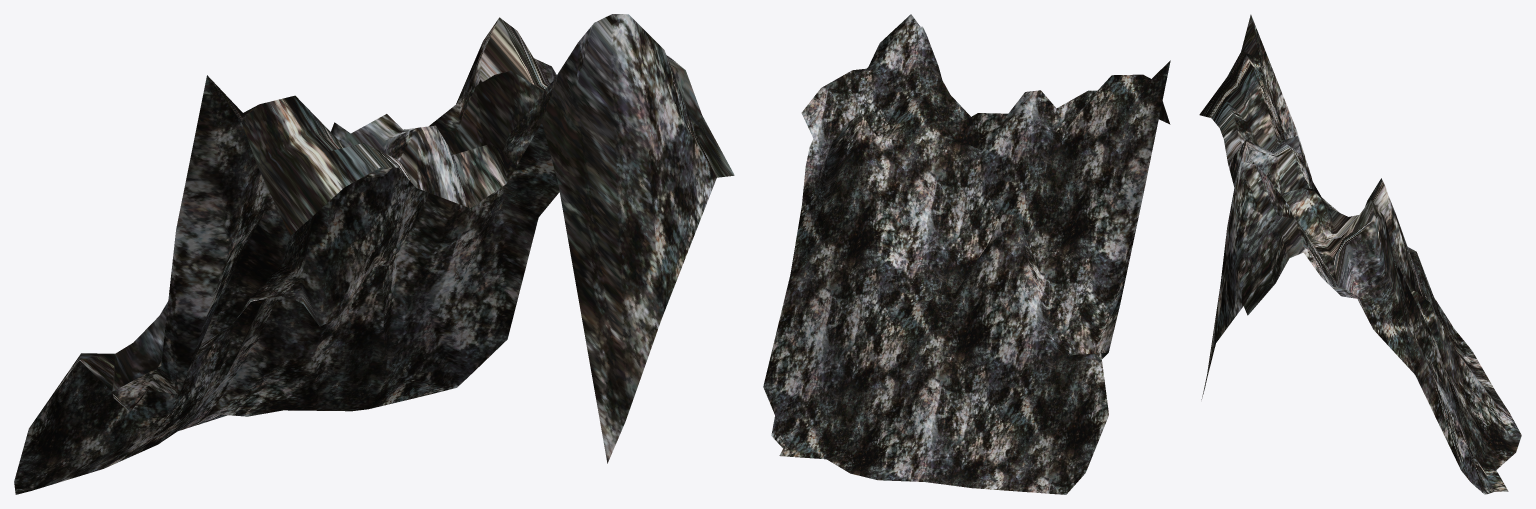
Rendered from OVERHILL_A_01_MOUN1_OBJECT158.fbx.
3 renders of one model, left to right at view 1: azimuth 30°, elevation 25°; view 2: azimuth 150°, elevation 25°; view 3: azimuth 270°, elevation 25°, orthographic. The views are drawn at different scales.
Visible parts, largest first — view 1: OVERHILL_A_01_MOUN1_OBJECT158; view 2: OVERHILL_A_01_MOUN1_OBJECT158; view 3: OVERHILL_A_01_MOUN1_OBJECT158.
Boxes of the visible parts, x1=… form: OVERHILL_A_01_MOUN1_OBJECT158: x1=14, y1=14, x2=734, y2=494; OVERHILL_A_01_MOUN1_OBJECT158: x1=763, y1=14, x2=1170, y2=494; OVERHILL_A_01_MOUN1_OBJECT158: x1=1199, y1=14, x2=1521, y2=494.
Size of the model in its own units: 352416 by 337078 by 278409.
1 material, 1 textured.
